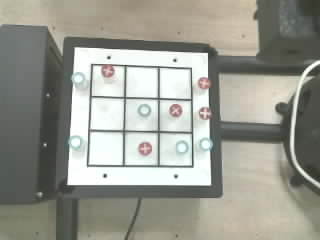blue circle: (68, 135, 82, 149), (71, 72, 84, 85), (200, 138, 213, 151), (138, 104, 151, 116), (176, 140, 188, 153)
board: (67, 46, 213, 186)
cells: (89, 132, 122, 164), (125, 133, 157, 165), (91, 98, 123, 129), (92, 65, 124, 96), (125, 99, 157, 130), (160, 134, 191, 165), (160, 100, 191, 131), (160, 68, 191, 98), (126, 67, 157, 97)
grid: (87, 64, 193, 167)
red cross: (101, 64, 114, 77), (138, 142, 151, 155), (169, 104, 182, 116), (198, 77, 210, 89), (199, 107, 211, 119)
